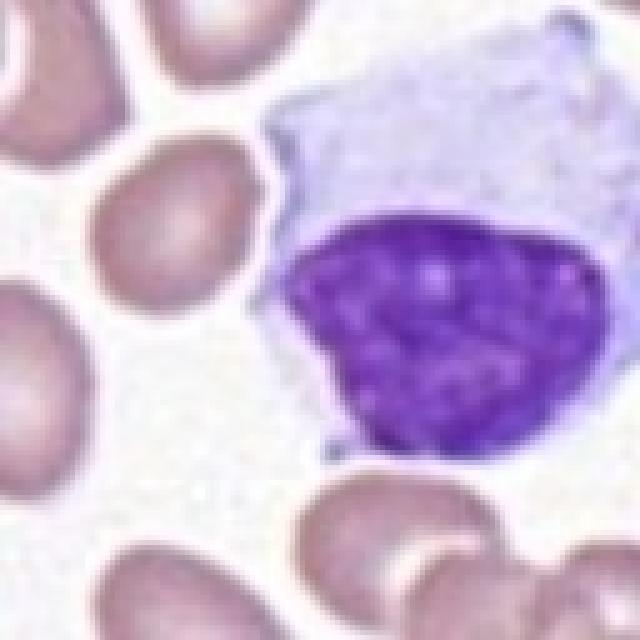lympho: (245, 5, 640, 470)
